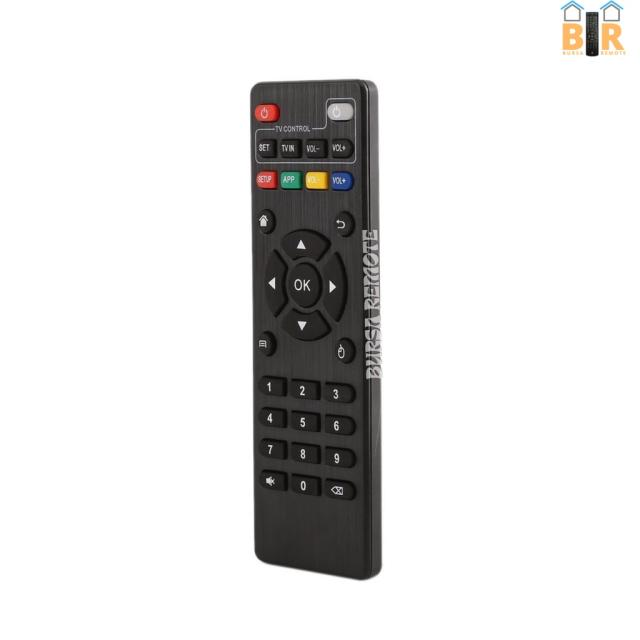remote: (248, 85, 383, 581)
